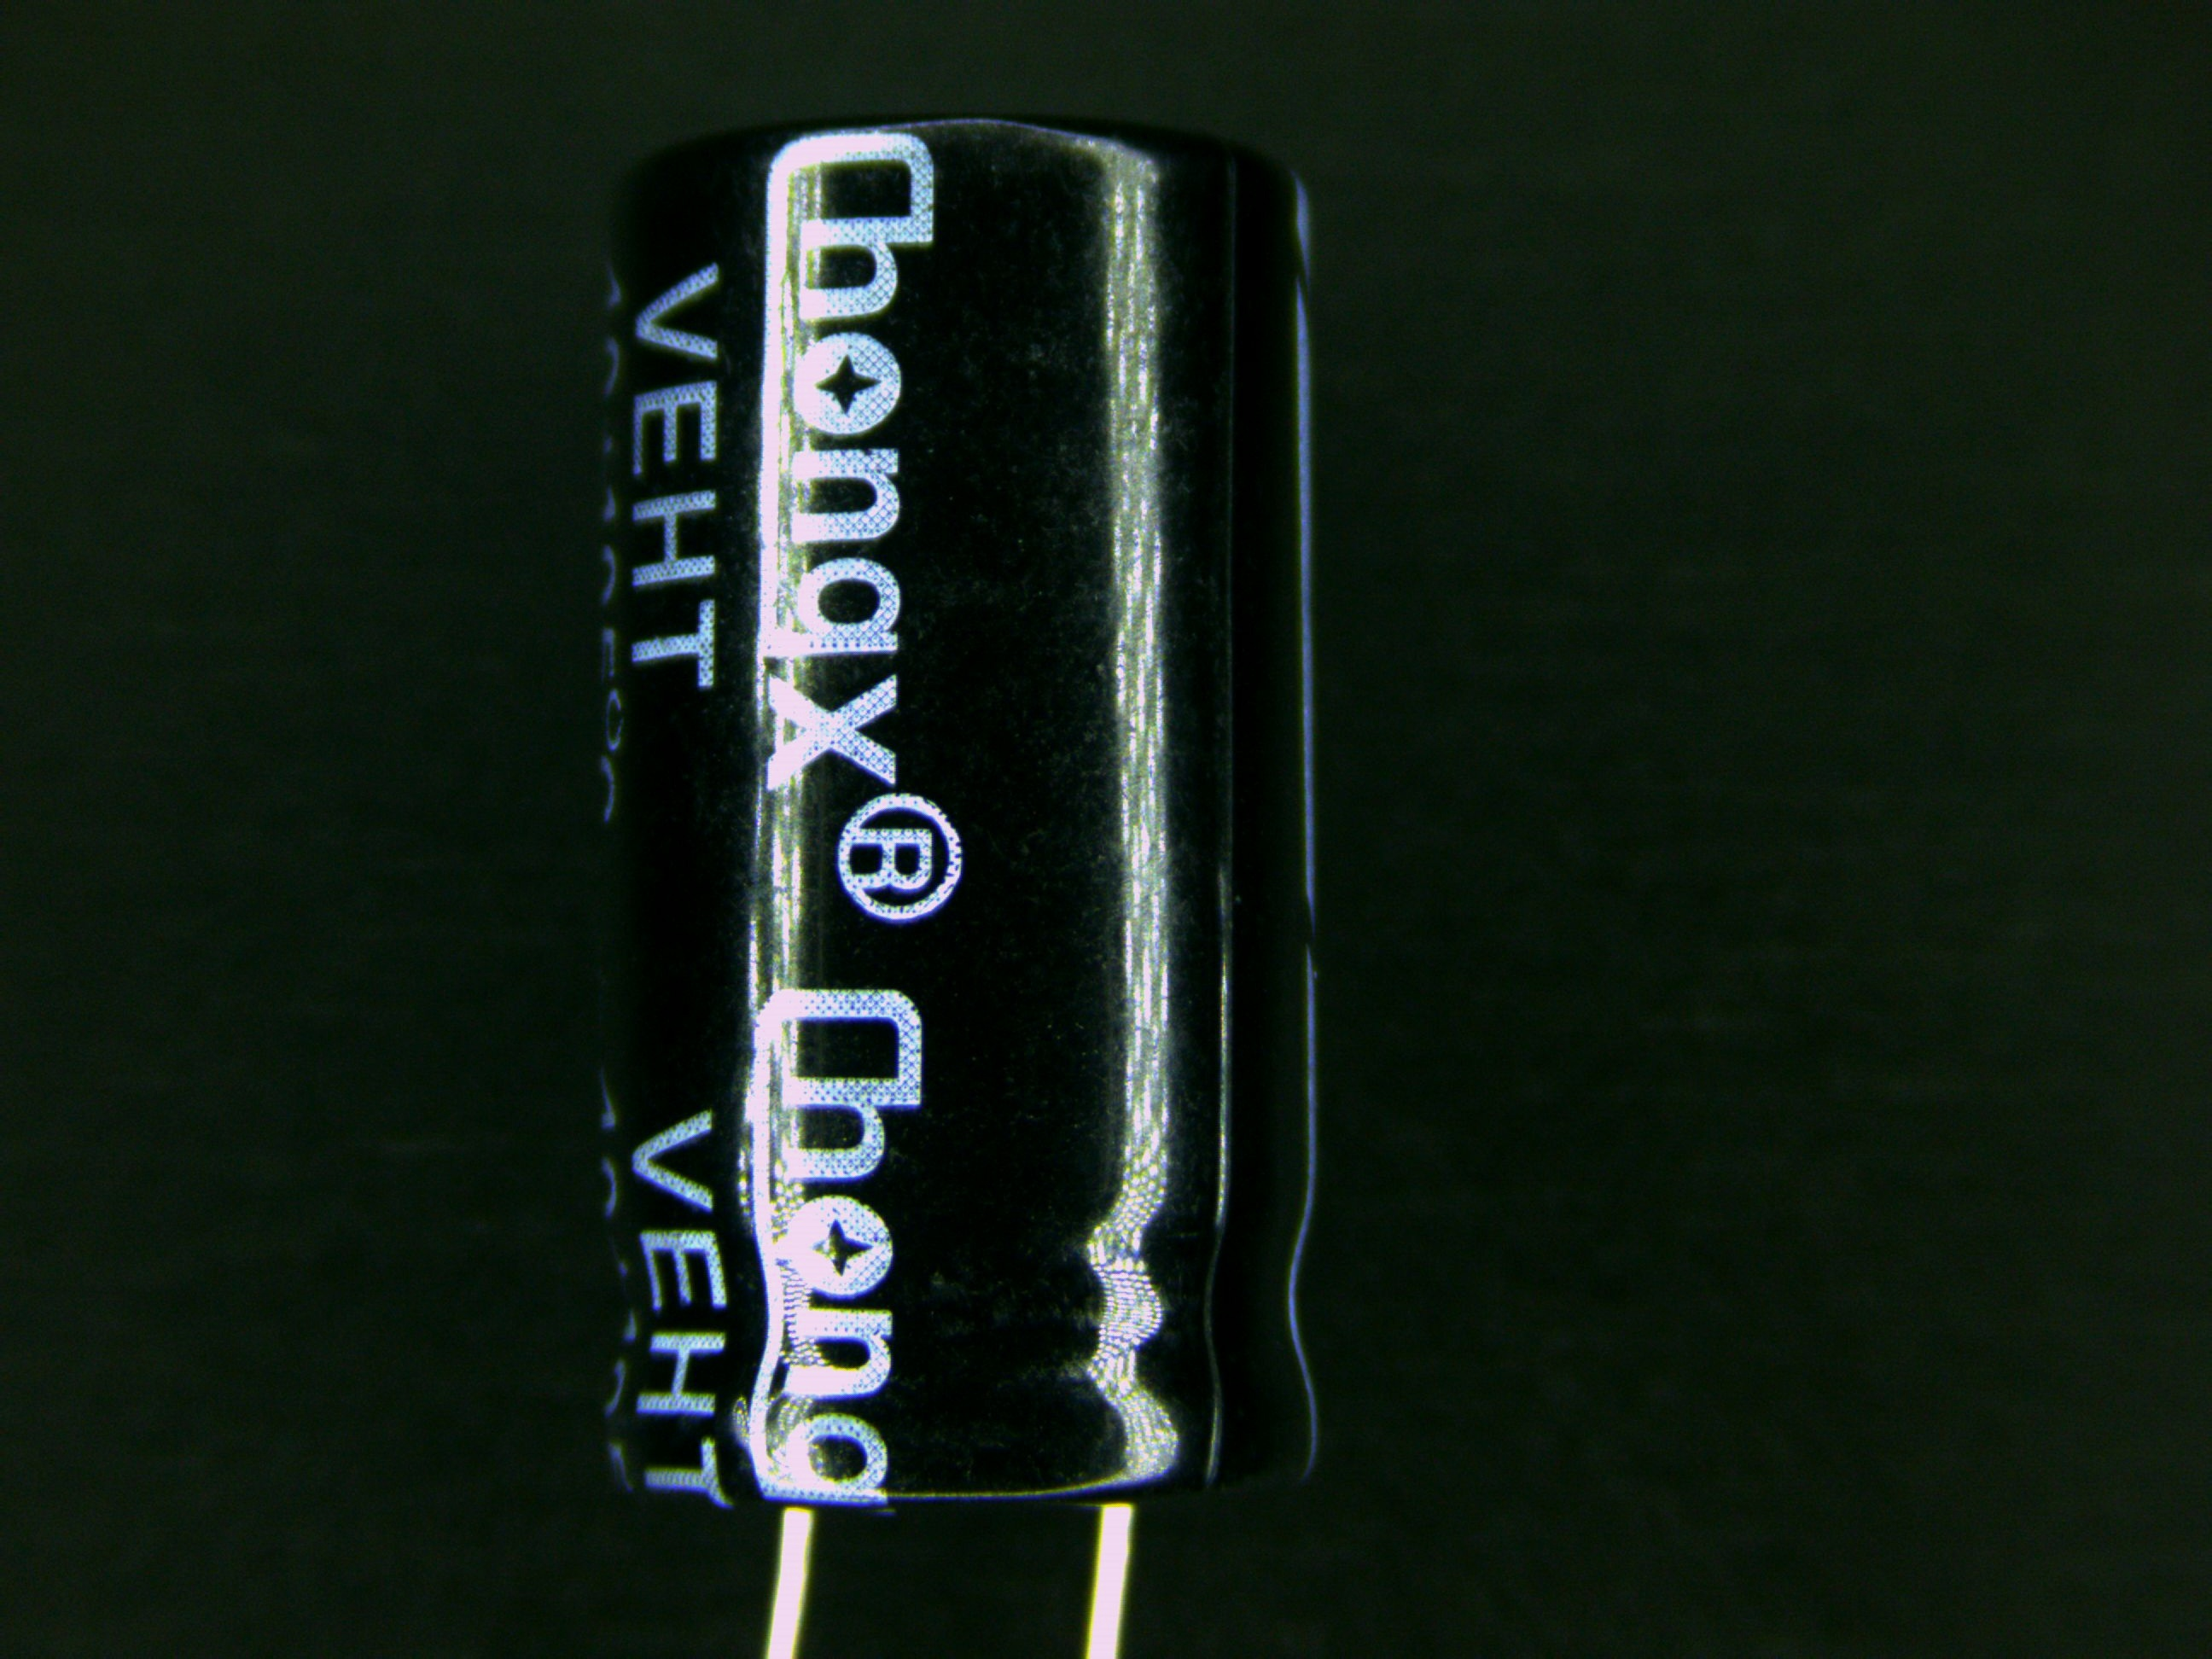c3: (573, 106, 1336, 1534)
